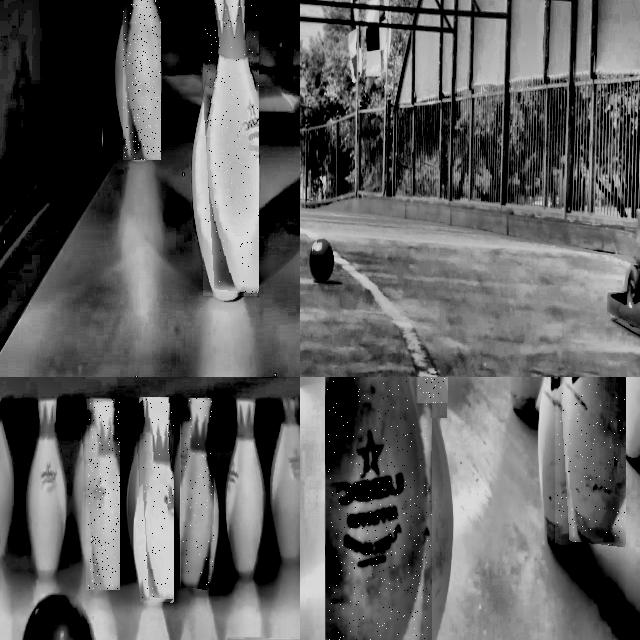bowling-ball: (22, 595, 94, 640), (309, 237, 334, 281)
bowling-pins: (327, 377, 431, 640), (203, 0, 259, 294), (557, 377, 626, 545), (26, 398, 66, 575), (226, 399, 265, 576), (142, 398, 173, 600), (123, 0, 161, 160), (181, 398, 213, 588), (88, 399, 119, 590), (271, 398, 300, 560), (126, 399, 146, 552), (172, 399, 192, 542), (74, 398, 92, 535), (0, 422, 12, 556)
